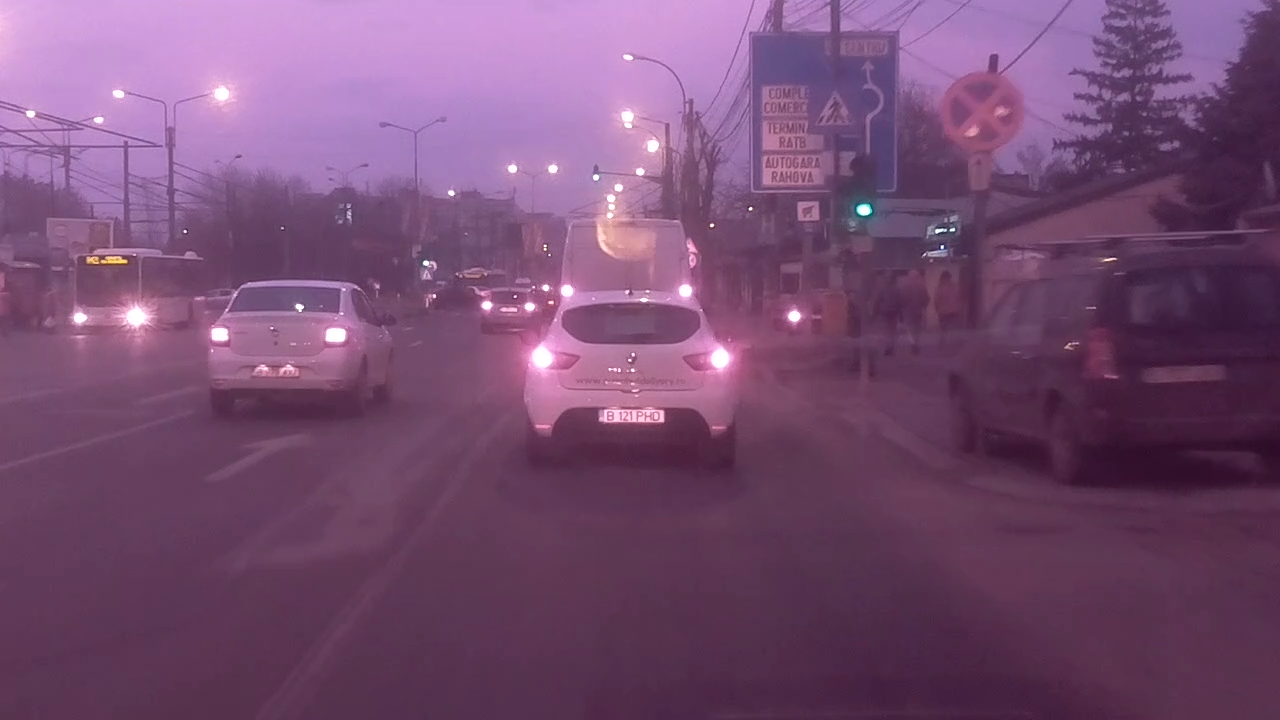license-plate: (593, 407, 668, 424)
